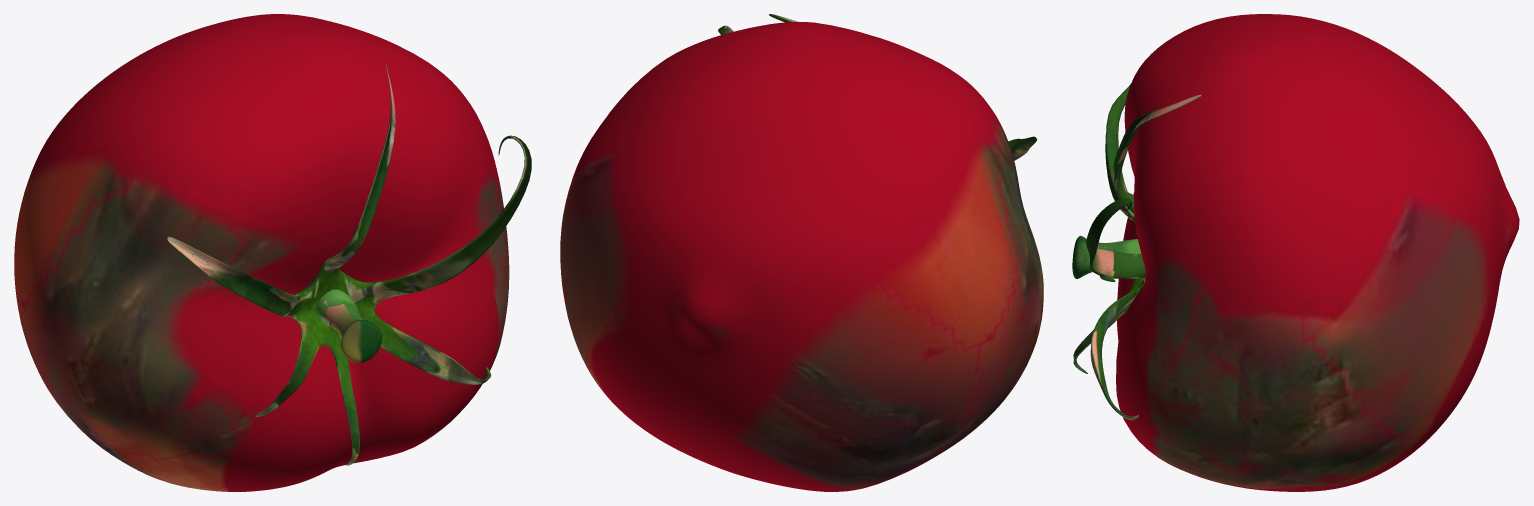
Rendered from tomatorotten2.glb.
3 views of the same model, side by side, from view 1: azimuth 30°, elevation 25°; view 2: azimuth 150°, elevation 25°; view 3: azimuth 270°, elevation 25° (orthographic). The views are drawn at different scales.
Visible parts, largest first — view 1: tomatoripe.005; view 2: tomatoripe.005; view 3: tomatoripe.005.
Boxes of the visible parts, x1,y1,x2,y2 form: tomatoripe.005: (14,14,531,491); tomatoripe.005: (560,14,1043,491); tomatoripe.005: (1072,14,1519,491).
Size of the model in its own units: 0.0423 by 0.0392 by 0.0375.
3 materials, 3 textured.
